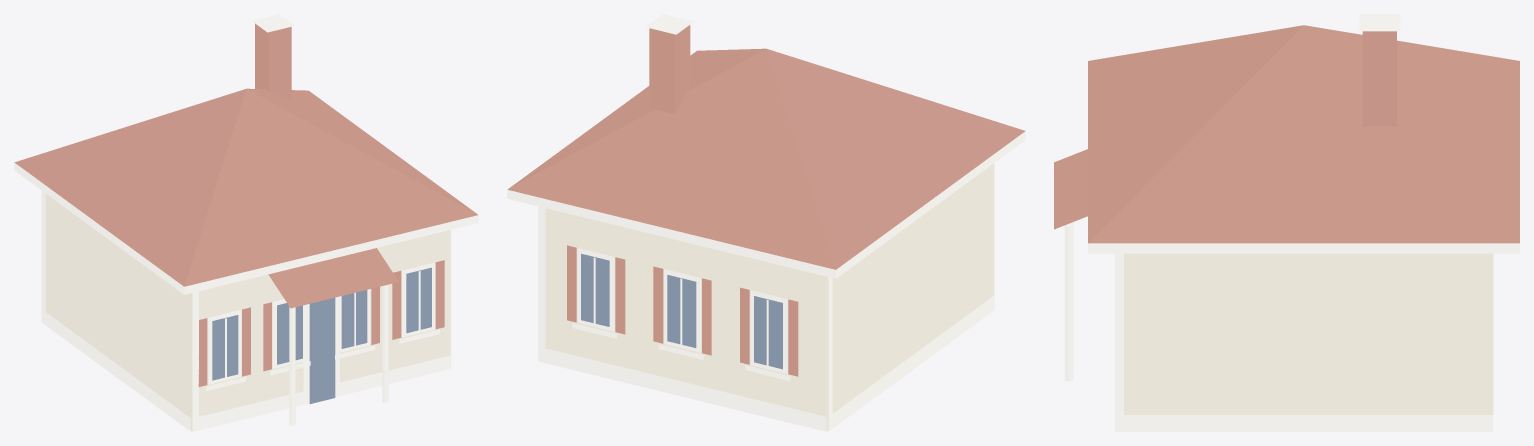
The model's file is Blender_House_Hip_1.glb.
3 views of the same model, side by side, from view 1: azimuth 30°, elevation 25°; view 2: azimuth 150°, elevation 25°; view 3: azimuth 270°, elevation 25° (orthographic). The views are drawn at different scales.
Parts seen in each view (by area): view 1: Blender_House_Hip_1; view 2: Blender_House_Hip_1; view 3: Blender_House_Hip_1.
Boxes of the visible parts, bbox=[...] form: Blender_House_Hip_1: bbox=[14, 14, 478, 431]; Blender_House_Hip_1: bbox=[507, 14, 1025, 431]; Blender_House_Hip_1: bbox=[1054, 14, 1519, 431].
Bounding box in the file's own units: 1.14 × 1.06 × 1.23.
